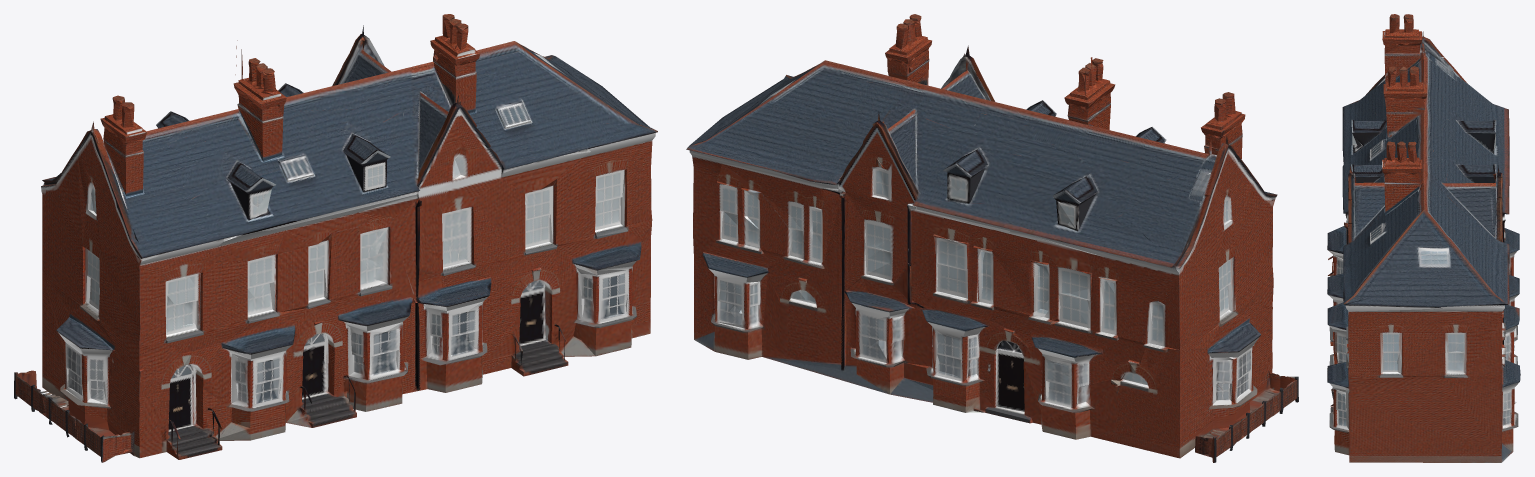
File: terrace.glb
3 views of the same model, side by side, from view 1: azimuth 30°, elevation 25°; view 2: azimuth 150°, elevation 25°; view 3: azimuth 270°, elevation 25° (orthographic). The views are drawn at different scales.
Bounding box in the file's own units: 1.9 × 1.15 × 0.7325.
Materials: 1 (1 with a texture image).
